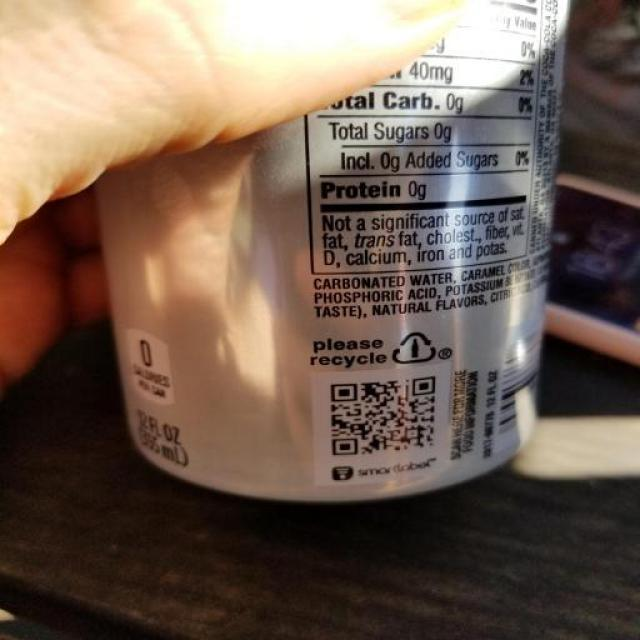QR_CODE: (320, 366, 444, 464)
